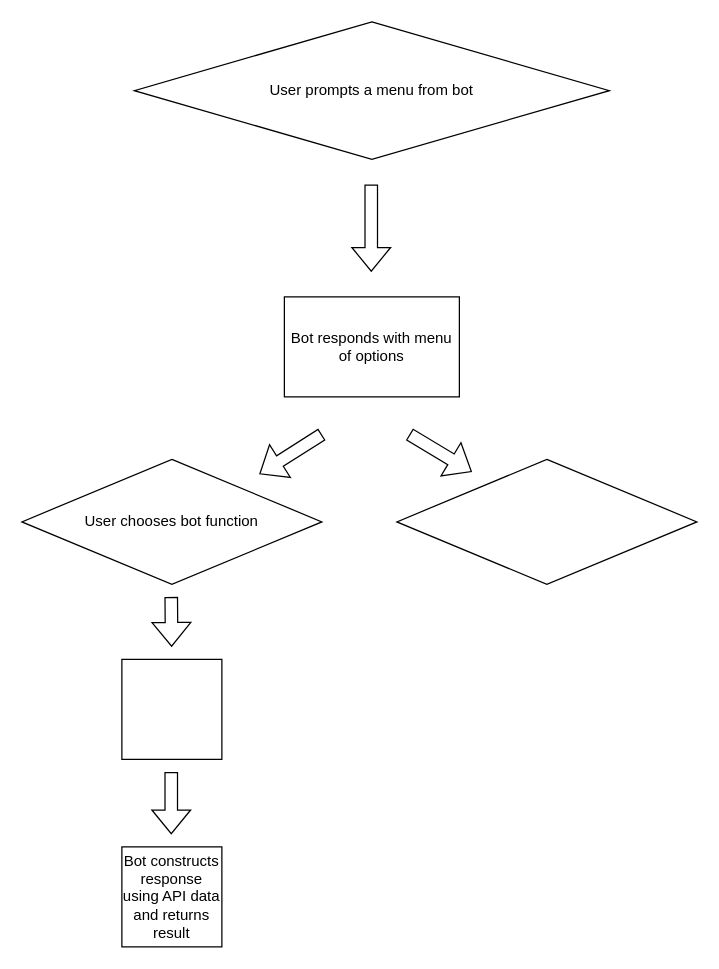
This 719x969 diagram has some shape labels left out. The box of each missing label's shape, as (x1, y1, x2, y2) in pixels:
Bots requests data from Hypixel API: (121, 658, 222, 759)
User exits: (396, 458, 697, 584)
